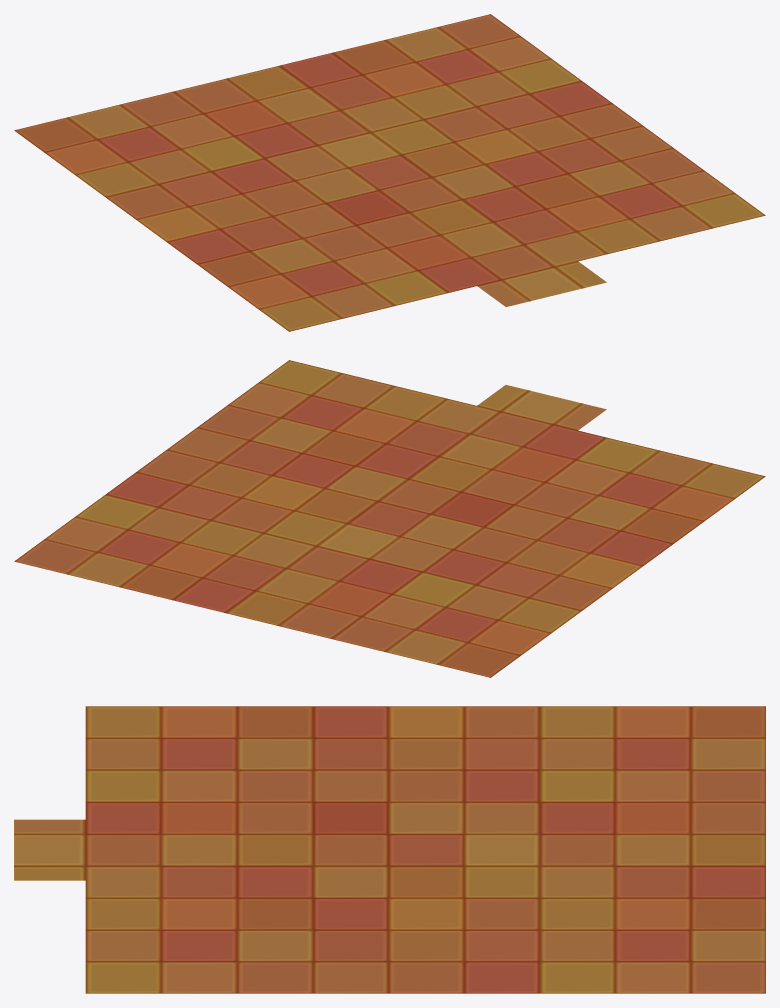
The model's file is Floor04_b01.FBX.
3 renders of one model, top to bottom at view 1: azimuth 30°, elevation 25°; view 2: azimuth 150°, elevation 25°; view 3: azimuth 270°, elevation 25°, orthographic. The views are drawn at different scales.
Parts seen in each view (by area): view 1: Floor04_b01; view 2: Floor04_b01; view 3: Floor04_b01.
Boxes of the visible parts, left/top/right/bottom form: Floor04_b01: left=14, top=14, right=765, bottom=331; Floor04_b01: left=14, top=360, right=765, bottom=677; Floor04_b01: left=14, top=706, right=765, bottom=993.
Size of the model in its own units: 900 by 0.000446 by 995.
Materials: 1 (1 with a texture image).
